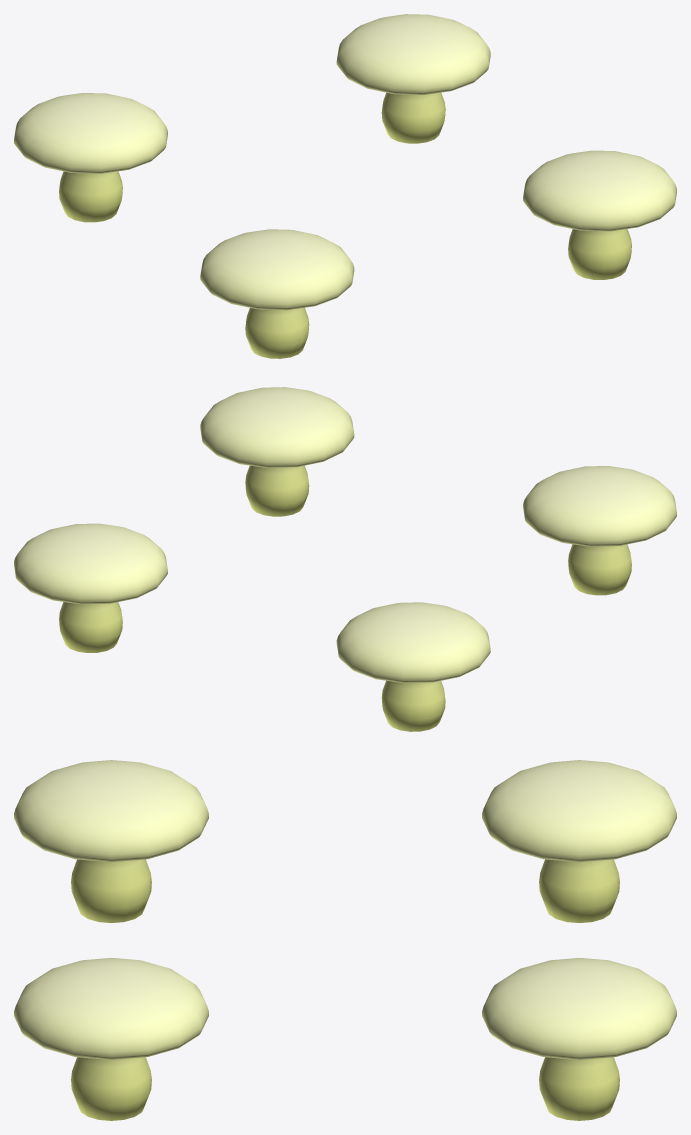
The model's file is Farm_Crop_Mashroom_01_Step_02.fbx.
3 renders of one model, top to bottom at view 1: azimuth 30°, elevation 25°; view 2: azimuth 150°, elevation 25°; view 3: azimuth 270°, elevation 25°, orthographic. The views are drawn at different scales.
Visible parts, largest first — view 1: Farm_Crop_Mashroom_01_Step_02; view 2: Farm_Crop_Mashroom_01_Step_02; view 3: Farm_Crop_Mashroom_01_Step_02.
Part boxes in pixels (left/top/right/bottom): Farm_Crop_Mashroom_01_Step_02: left=14, top=14, right=676, bottom=358; Farm_Crop_Mashroom_01_Step_02: left=14, top=387, right=676, bottom=731; Farm_Crop_Mashroom_01_Step_02: left=14, top=760, right=676, bottom=1120.
Size of the model in its own units: 142 by 30.34 by 142.
